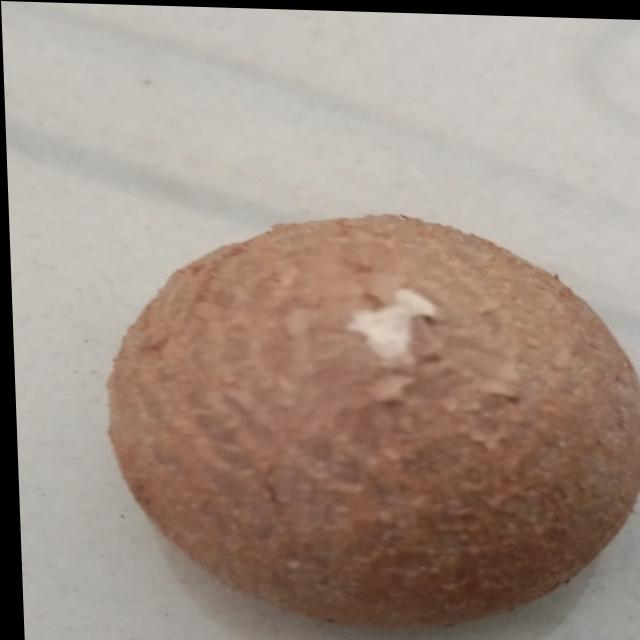good: (60, 194, 640, 640)
